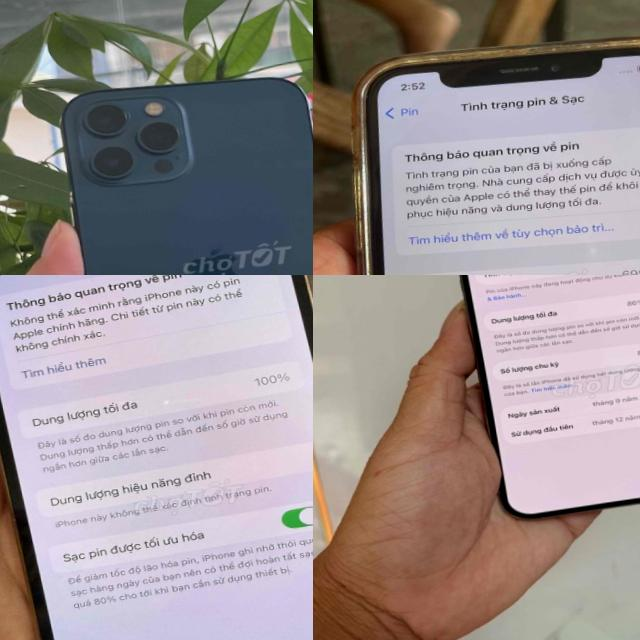gen_12_13: (0, 275, 313, 640), (53, 58, 313, 275)
gen_15: (429, 275, 640, 532)
gen_x_xs: (324, 27, 640, 275)
